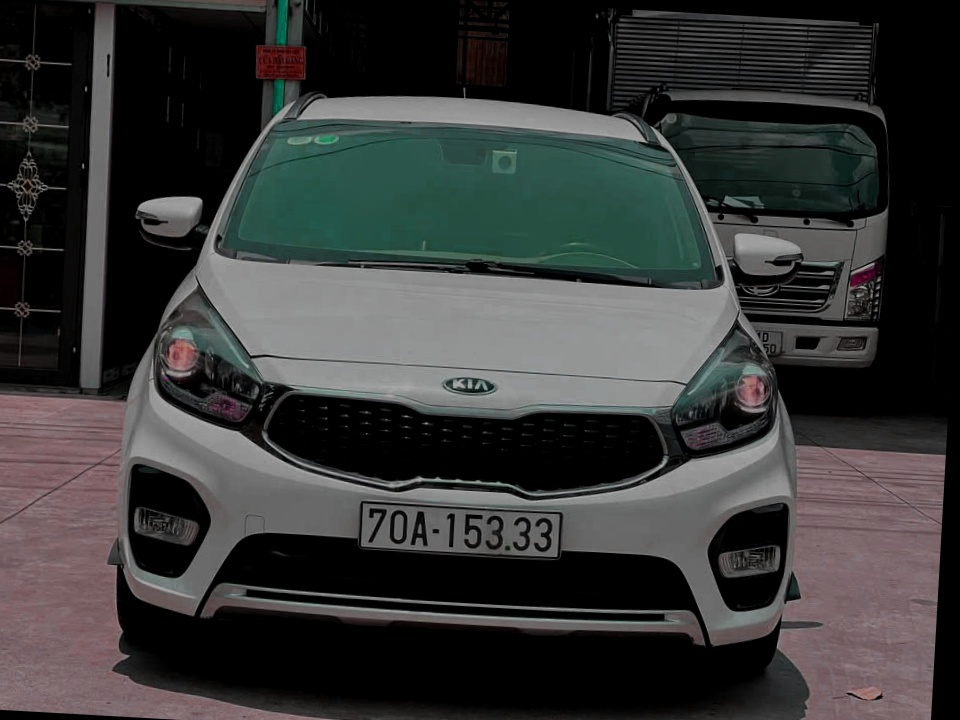Bien-so: (368, 480, 580, 548)
